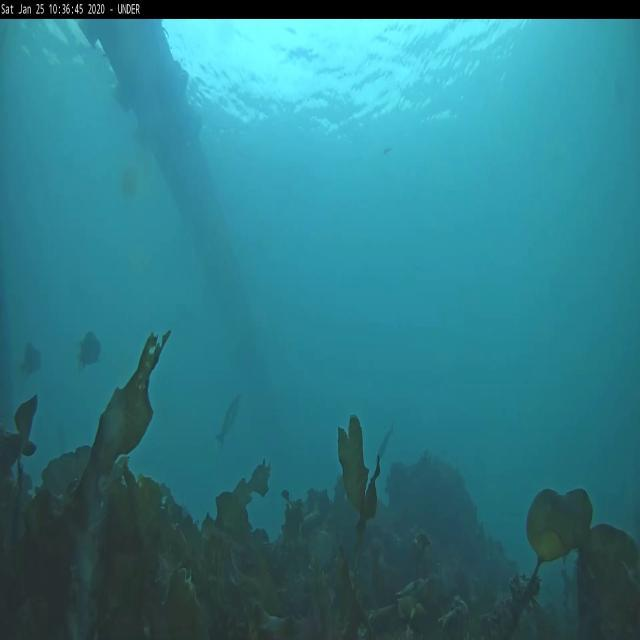fish: (219, 394, 241, 445), (378, 424, 394, 460)
